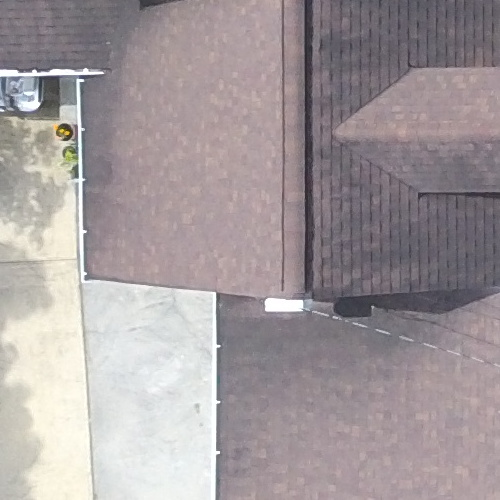flower pot: (48, 115, 80, 149), (52, 141, 83, 174)
